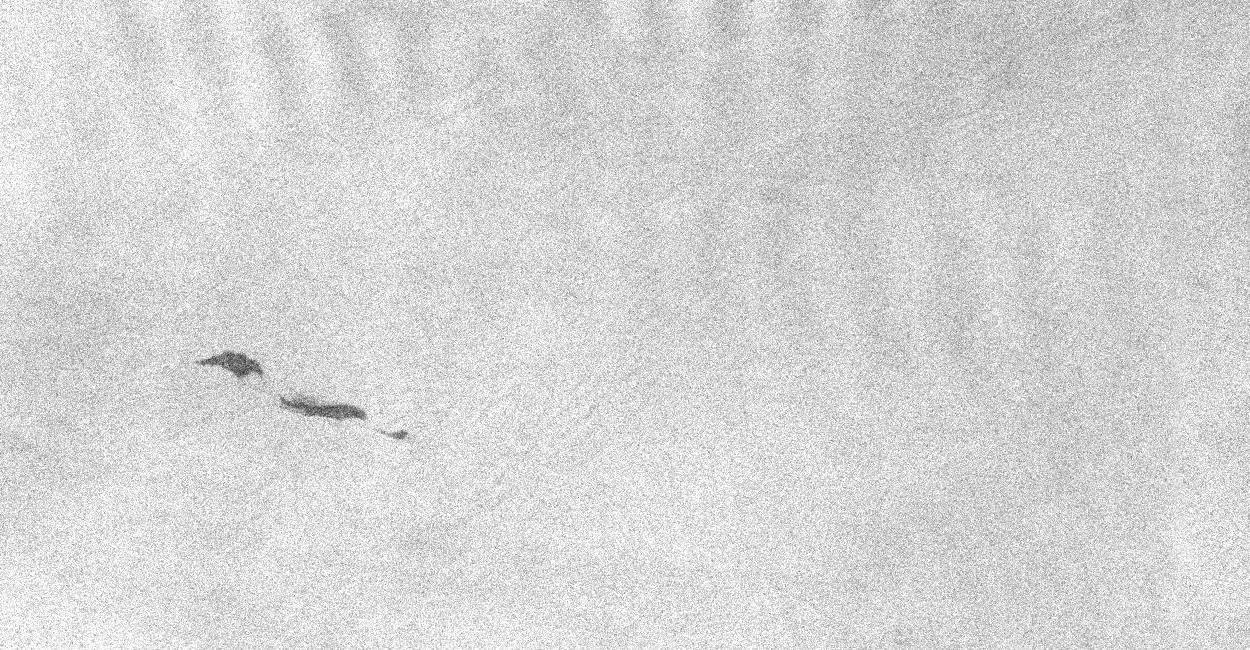Oil Spill: (278, 394, 368, 422), (198, 350, 263, 379), (380, 428, 408, 442)
